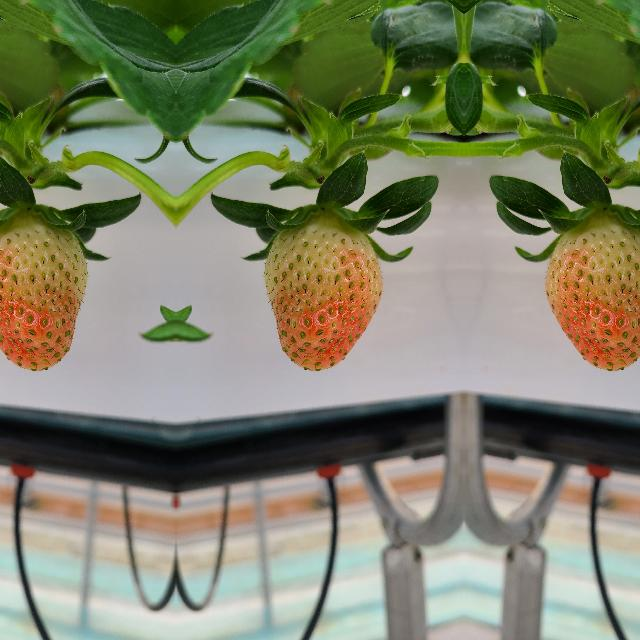Health_50: (262, 212, 382, 372), (543, 212, 640, 371), (0, 212, 88, 371)
